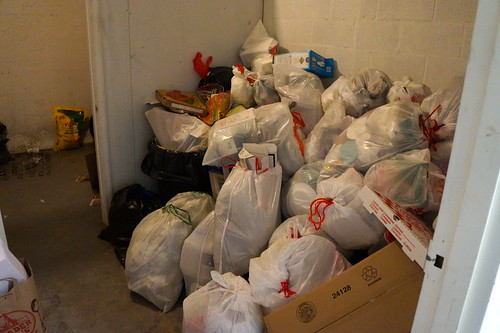trash: (118, 31, 469, 333)
